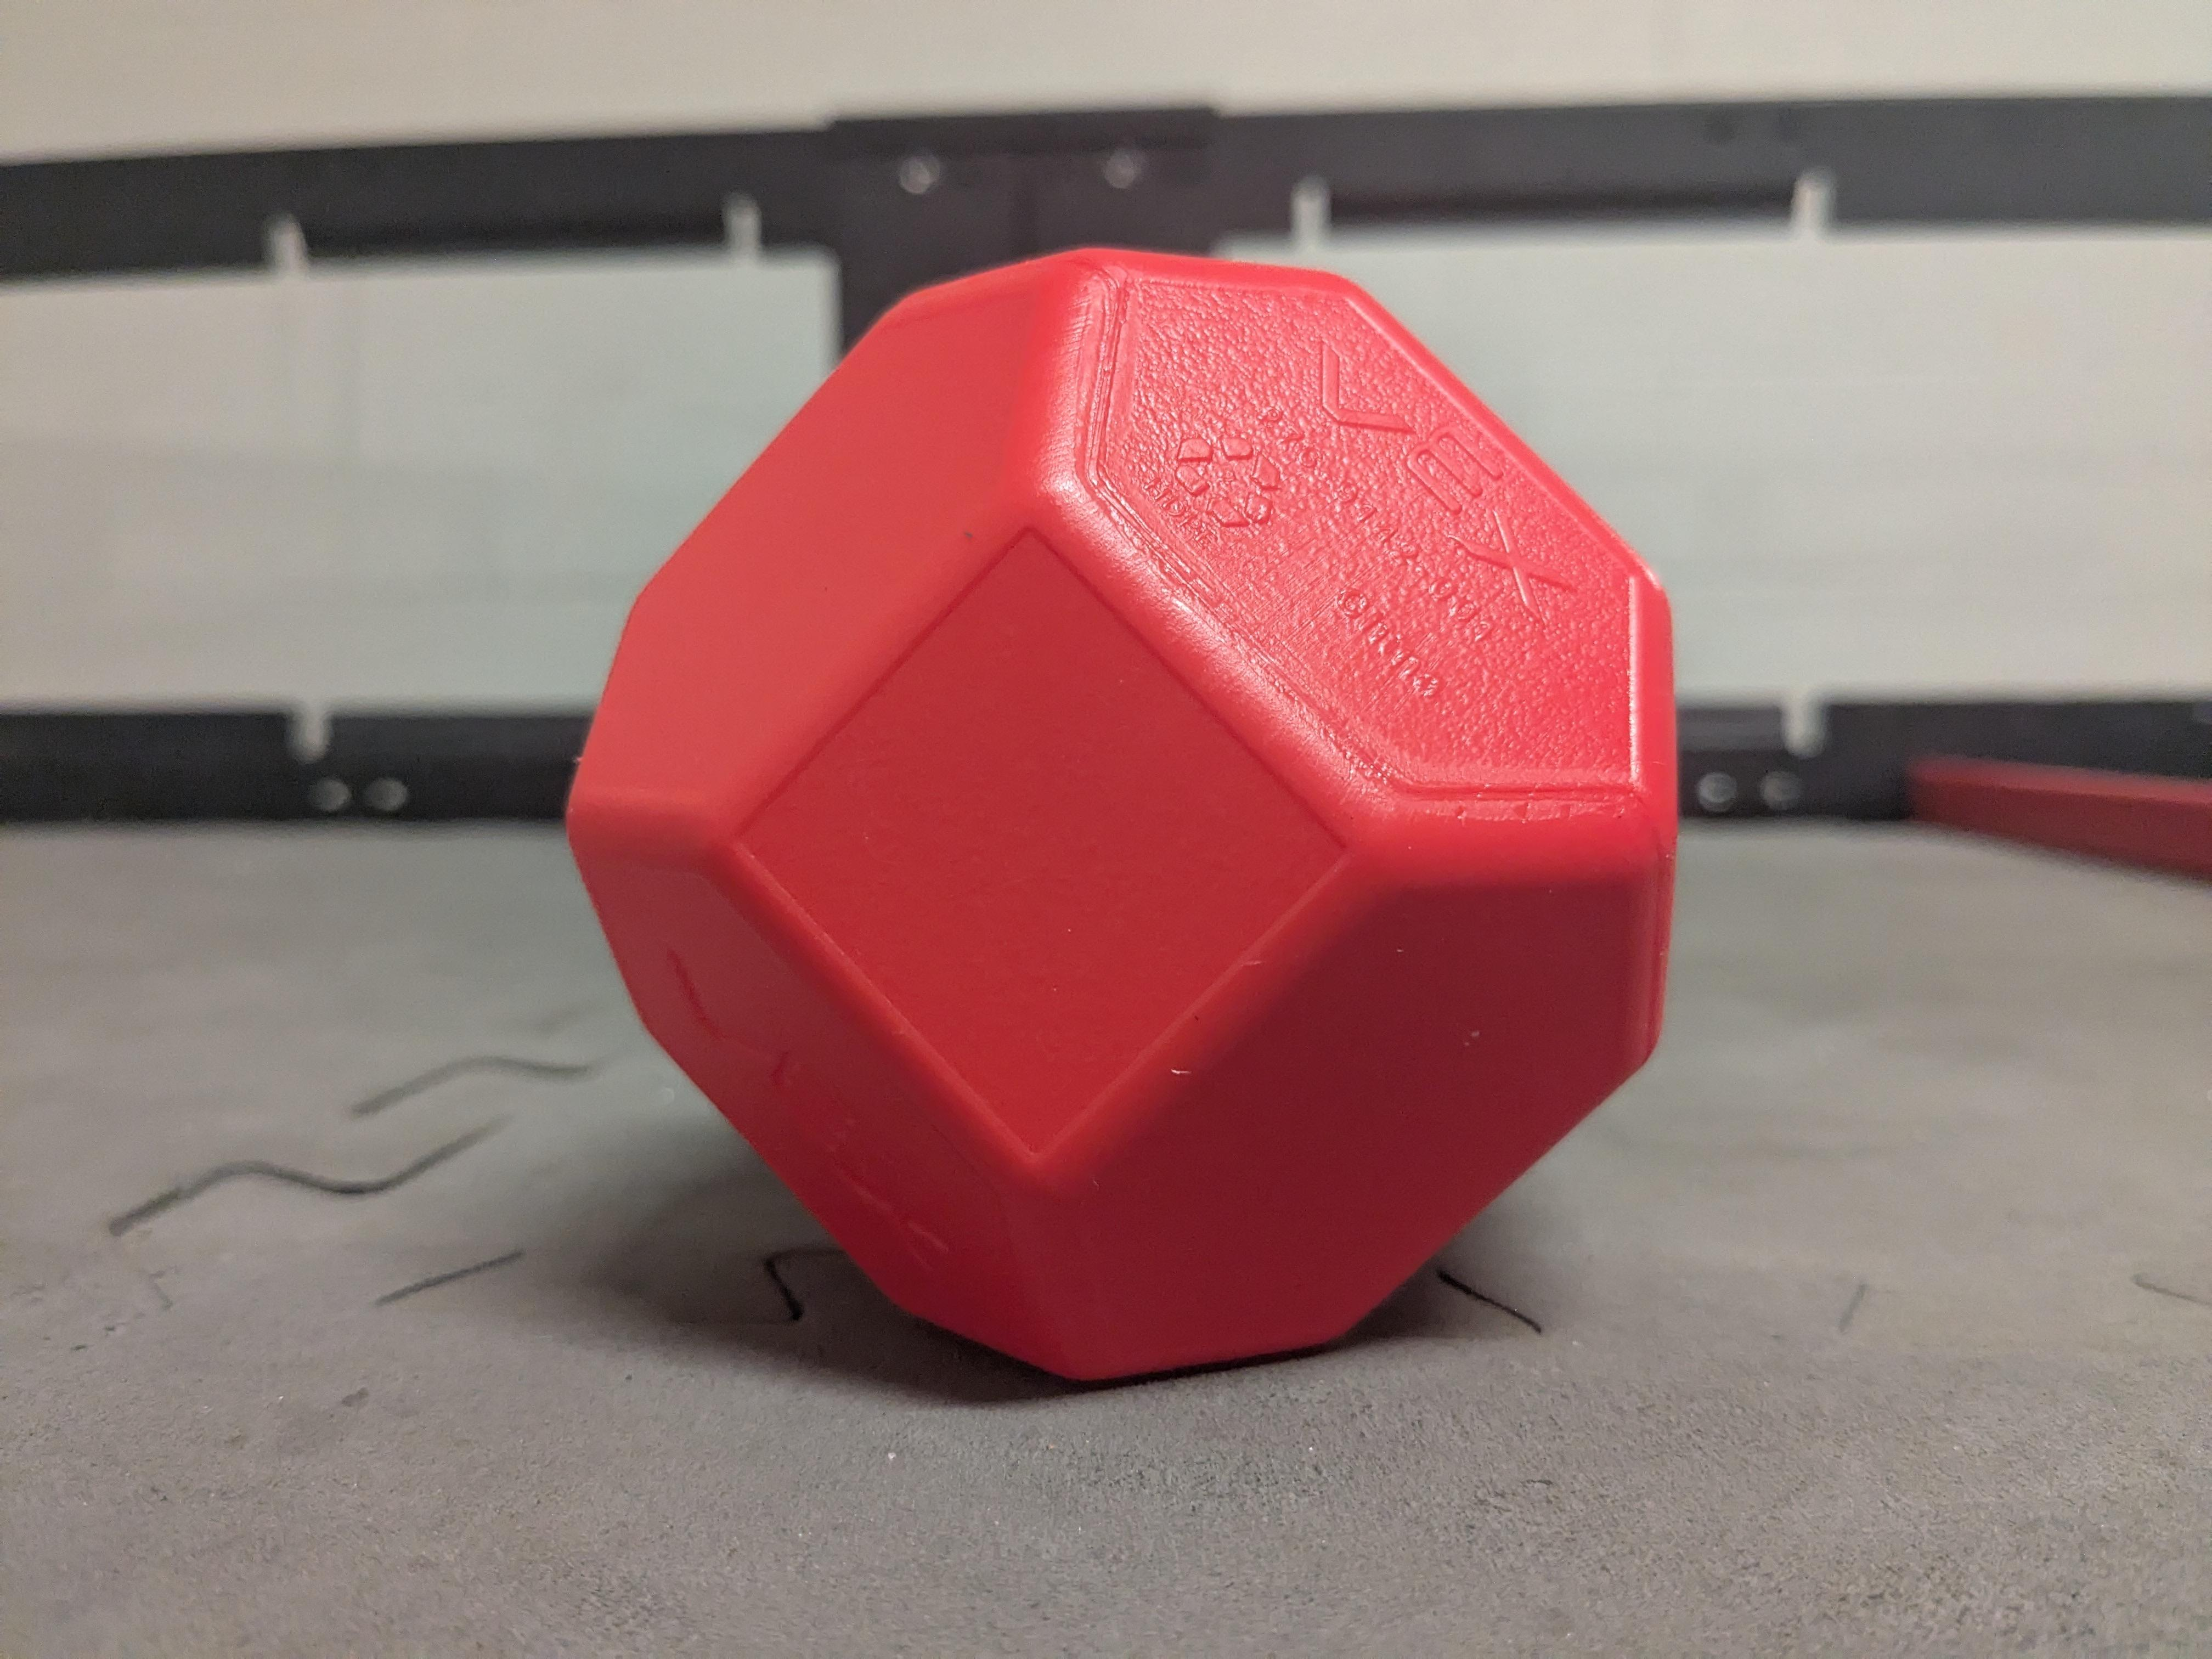Vex-Pieces-RED: (570, 251, 1676, 1377)
